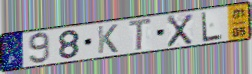8: (57, 29, 81, 60)
9: (27, 30, 53, 66)
K: (96, 23, 120, 55)
L: (201, 10, 224, 43)
T: (127, 17, 154, 53)
X: (165, 13, 194, 48)
